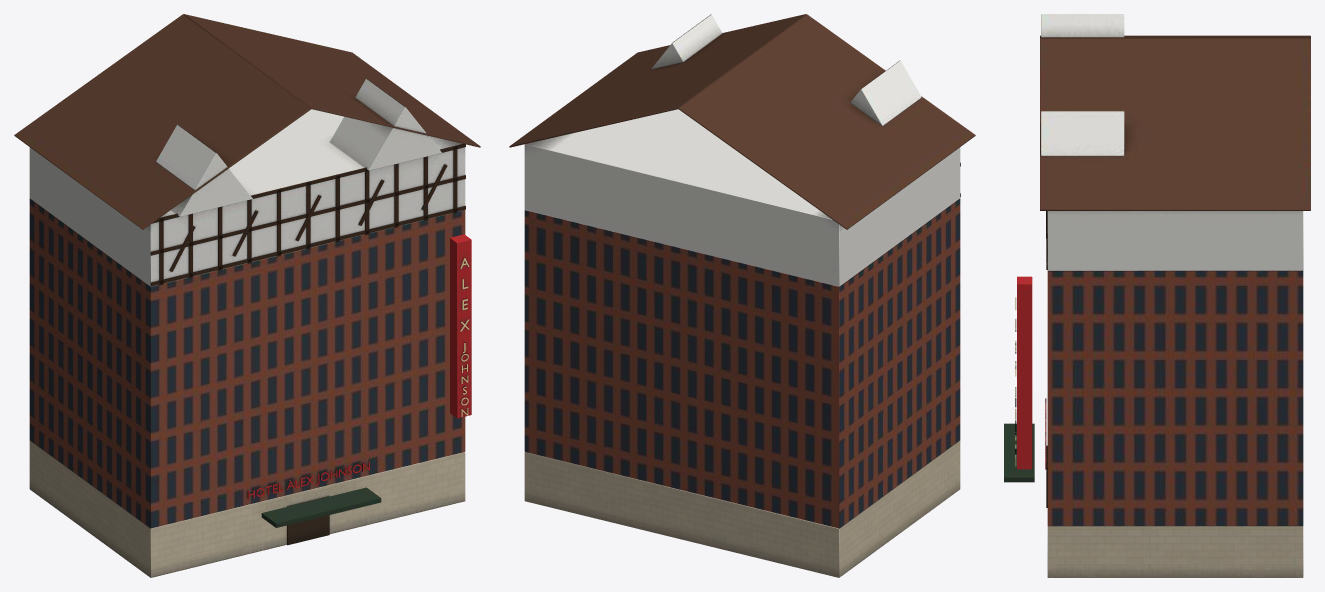
The model's file is hotel_alex_johnson.glb.
3 renders of one model, left to right at view 1: azimuth 30°, elevation 25°; view 2: azimuth 150°, elevation 25°; view 3: azimuth 270°, elevation 25°, orthographic. The views are drawn at different scales.
Parts seen in each view (by area): view 1: hotel_alex_johnson; view 2: hotel_alex_johnson; view 3: hotel_alex_johnson.
Boxes of the visible parts, x1,y1,x2,y2 form: hotel_alex_johnson: (14, 14, 480, 577); hotel_alex_johnson: (509, 14, 975, 577); hotel_alex_johnson: (1004, 14, 1310, 577).
Size of the model in its own units: 32.23 by 39.54 by 24.
Materials: 1 (1 with a texture image).
